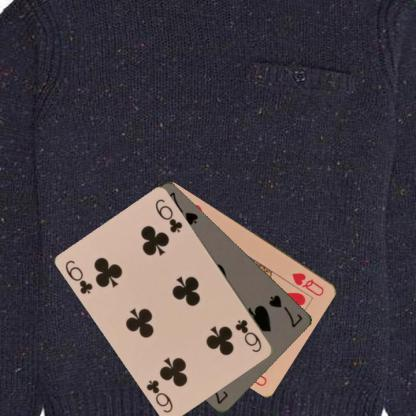6c: (63, 257, 95, 296), (232, 317, 264, 354)
7s: (266, 292, 304, 329)
Qh: (289, 270, 326, 297)
